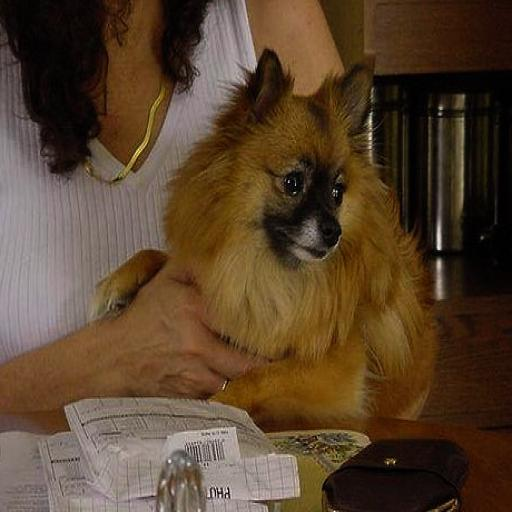dog_face: (238, 59, 379, 264)
